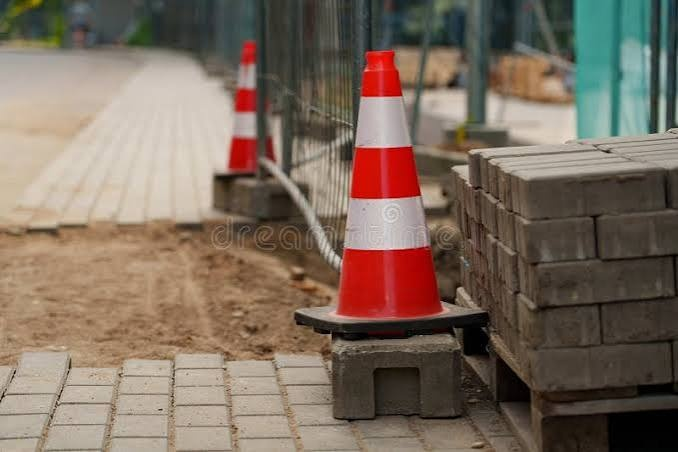safety_cone: (316, 46, 476, 331), (196, 36, 286, 214)
